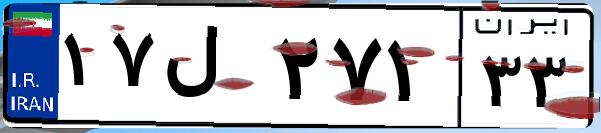1: (385, 28, 445, 110), (57, 26, 110, 100)
2: (270, 28, 330, 110)
3: (475, 38, 525, 113), (525, 38, 570, 115)
7: (330, 28, 385, 110), (110, 28, 158, 98)
ل: (158, 20, 270, 120)
